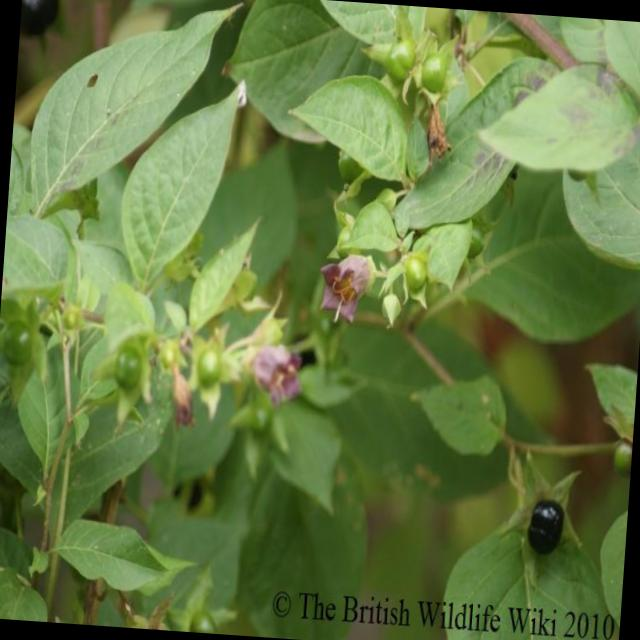Poisonous-Deadly_Nightshade: (317, 6, 640, 597), (0, 91, 357, 571)
